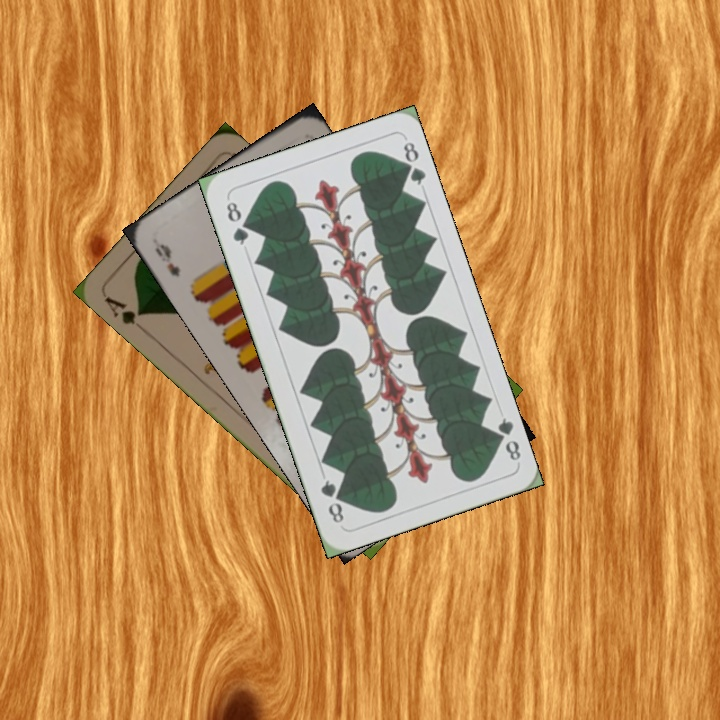E9: (151, 239, 183, 280)
G8: (488, 413, 524, 464), (222, 197, 251, 248)
GA: (100, 292, 147, 328)
